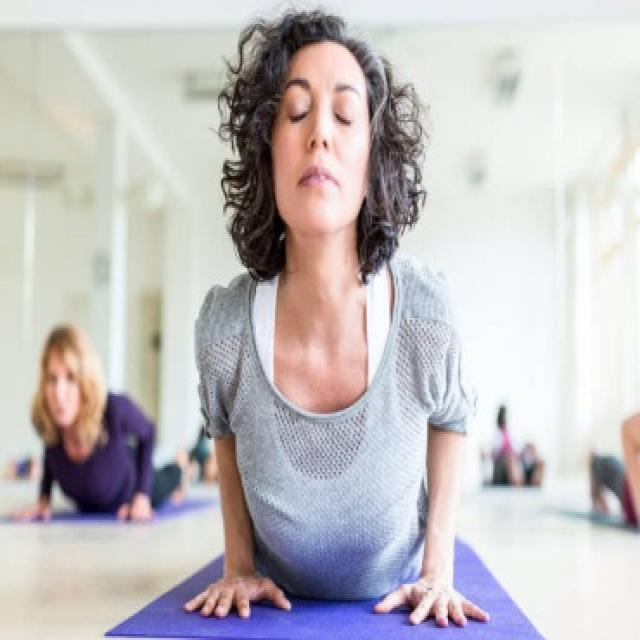adult: (188, 6, 495, 631), (9, 303, 174, 525)
